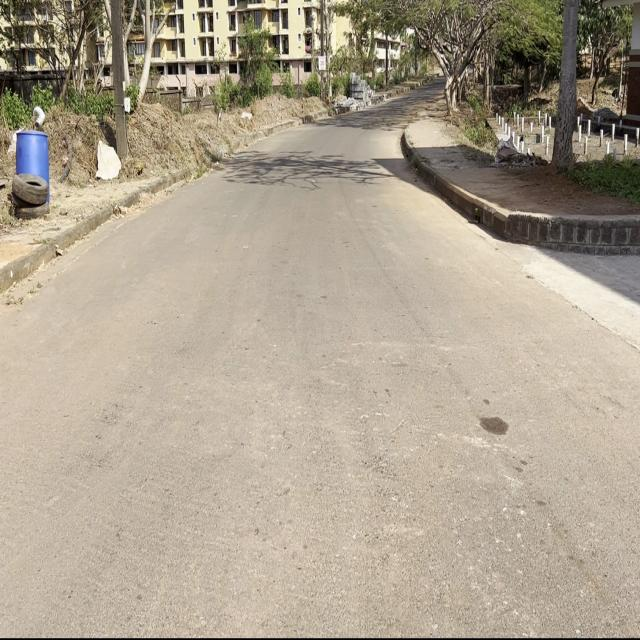Road: (1, 114, 640, 640)
